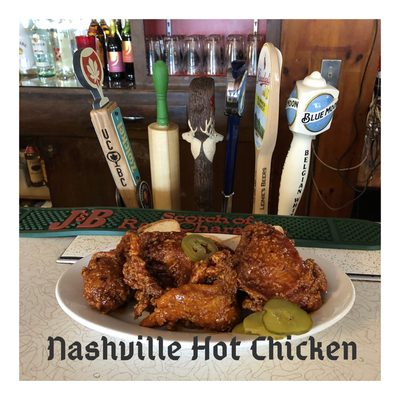burger: (106, 19, 125, 84), (121, 19, 135, 88), (24, 144, 45, 186)
curry: (19, 206, 388, 379)
pizza: (72, 41, 146, 205), (274, 70, 339, 216), (251, 42, 282, 216)
